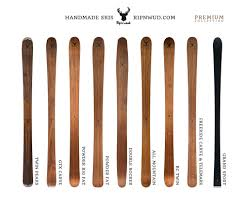skis: (90, 36, 105, 189), (44, 36, 59, 186), (67, 36, 81, 188), (139, 36, 153, 188), (21, 37, 35, 186), (163, 36, 176, 187), (114, 36, 126, 189), (185, 37, 196, 189), (212, 37, 223, 187)
